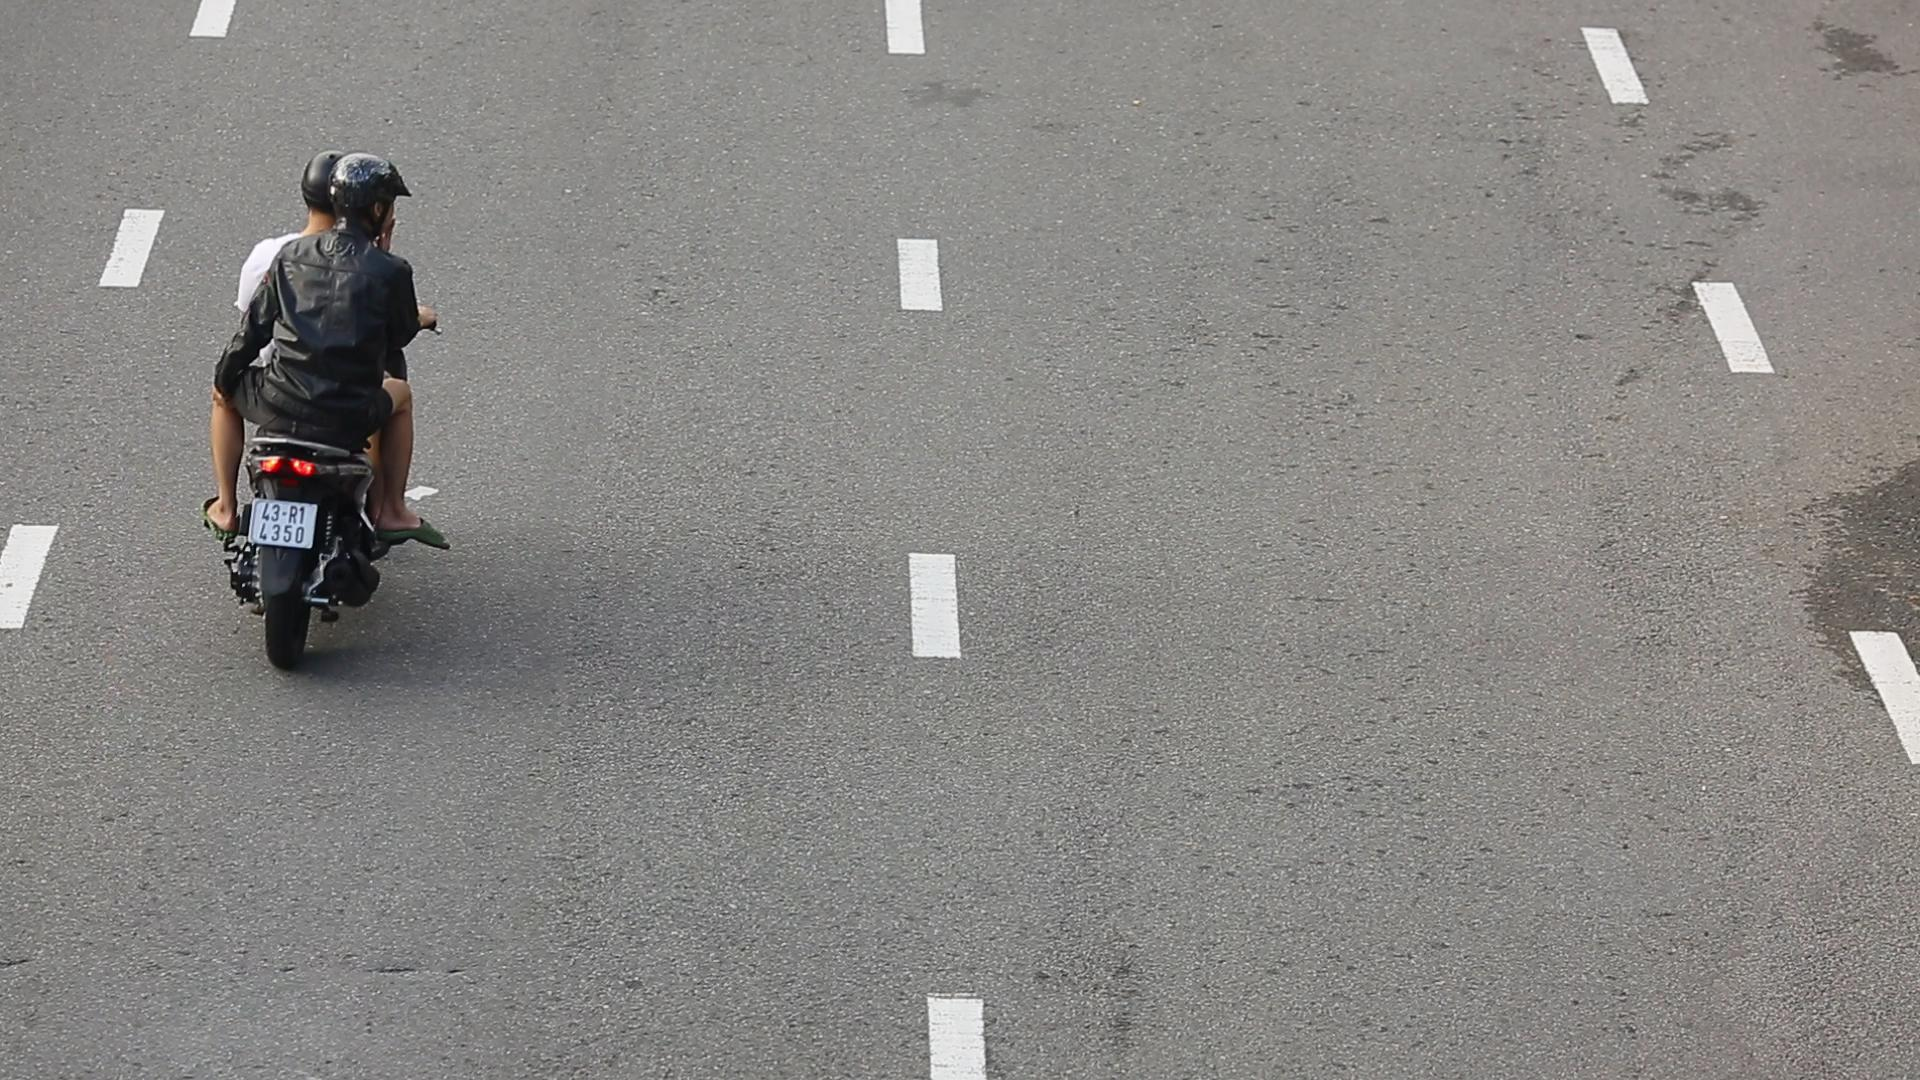motobike: (193, 148, 480, 662)
